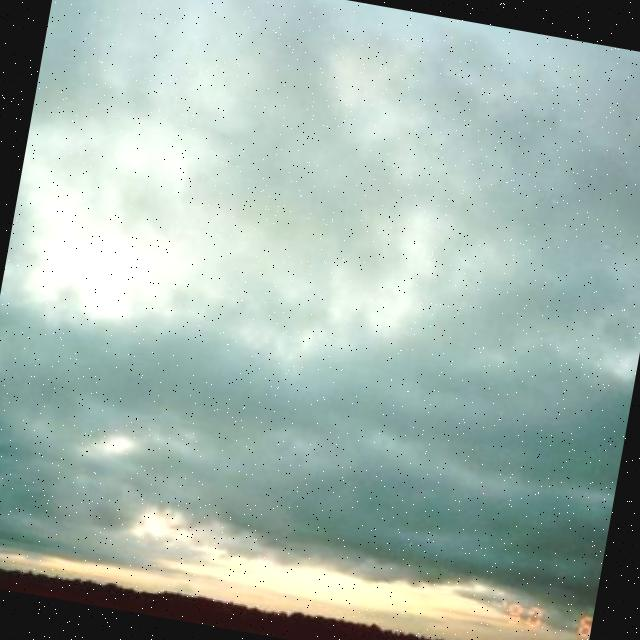St: (1, 1, 640, 546)
